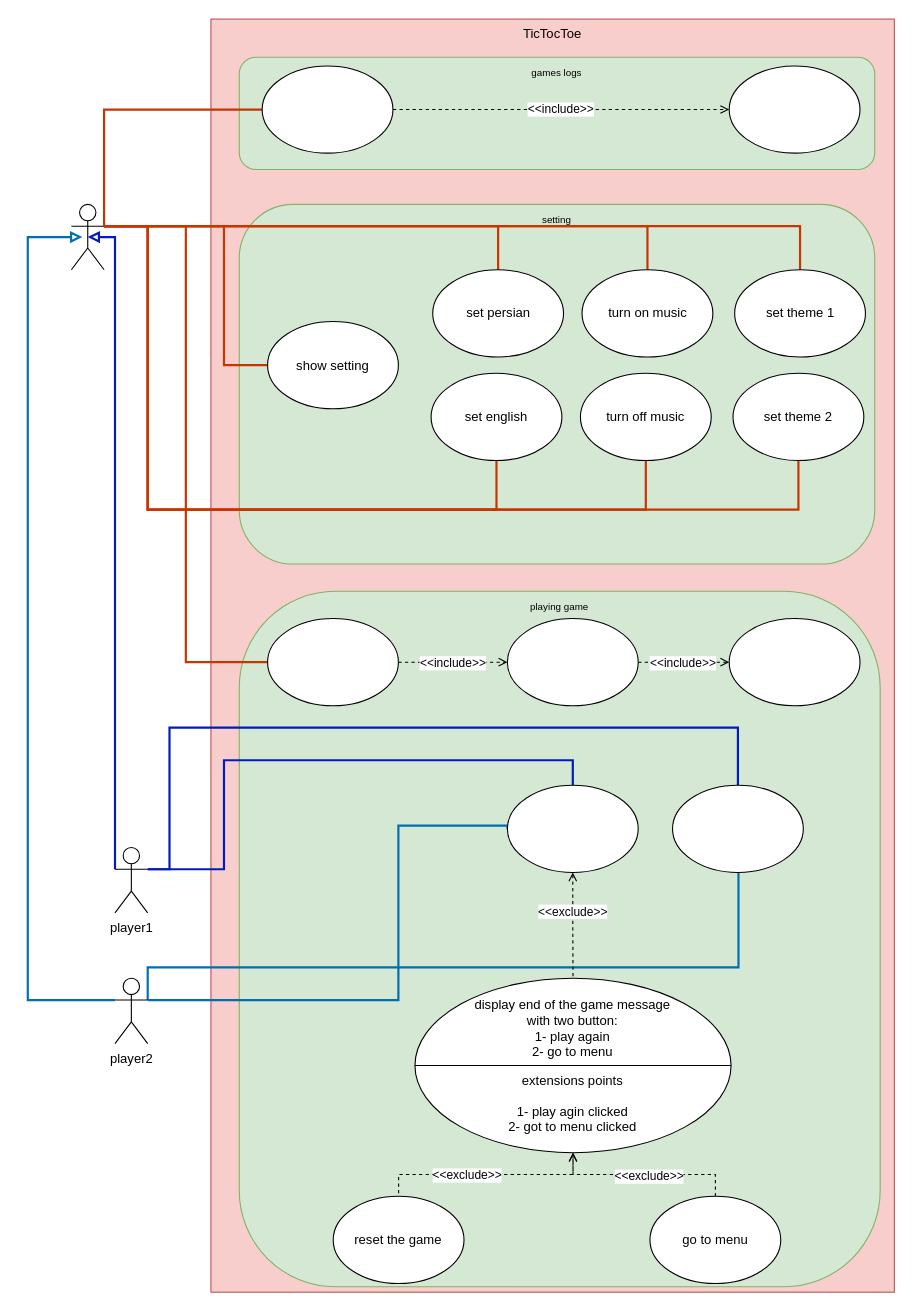
This 913x1311 diagram has some shape labels left out. Here are the shapes that lost their labels. From the top down, the centre of each, then its label:
At [327,109]: "show games logs".
At [794,109]: "display logs".
At [87,236]: "PLAYER".
At [332,661]: "start a new game".
At [572,661]: "enter players names".
At [794,661]: "start the game".
At [572,828]: "click on one of 9 tiles".
At [737,828]: "click go to menu button".
